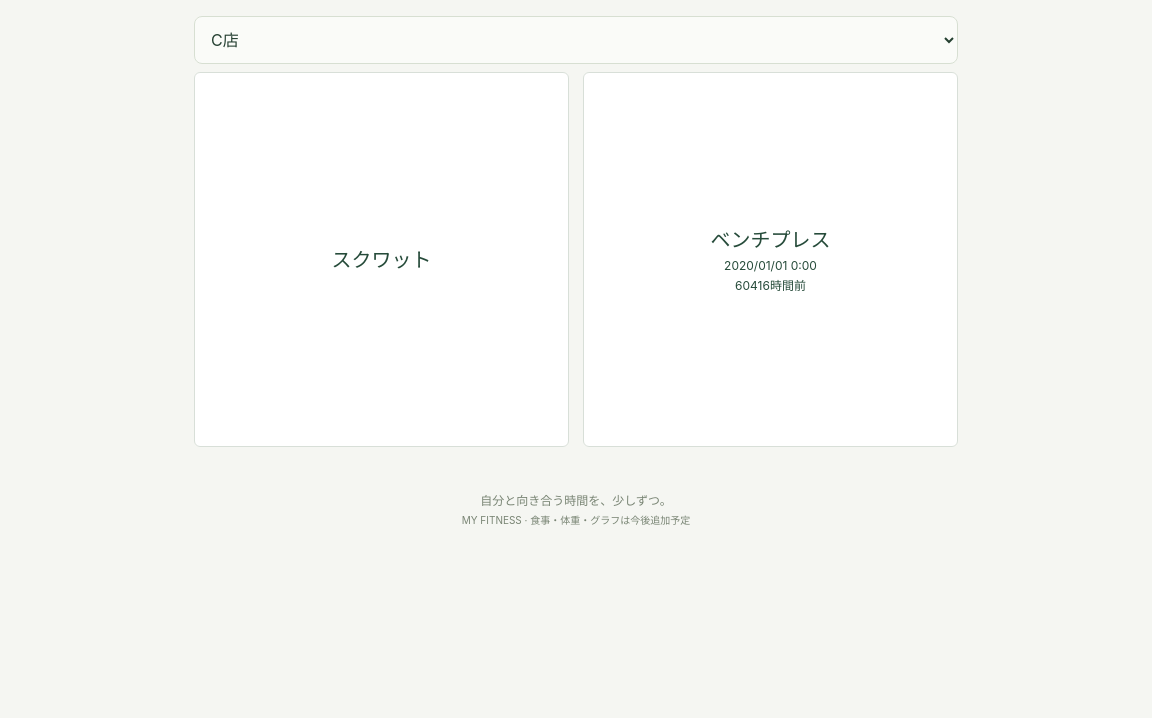
別店舗に同名種目を直接登録しても共通IDを使い、各店舗で重量を入力できる
This screenshot has width=1152, height=718.
Earlier steps of the test are not shown.
Later steps or results of the test are not shown.
Select "B店" in the dropdown named "店舗を選択": (576, 40) [194,16,958,64]
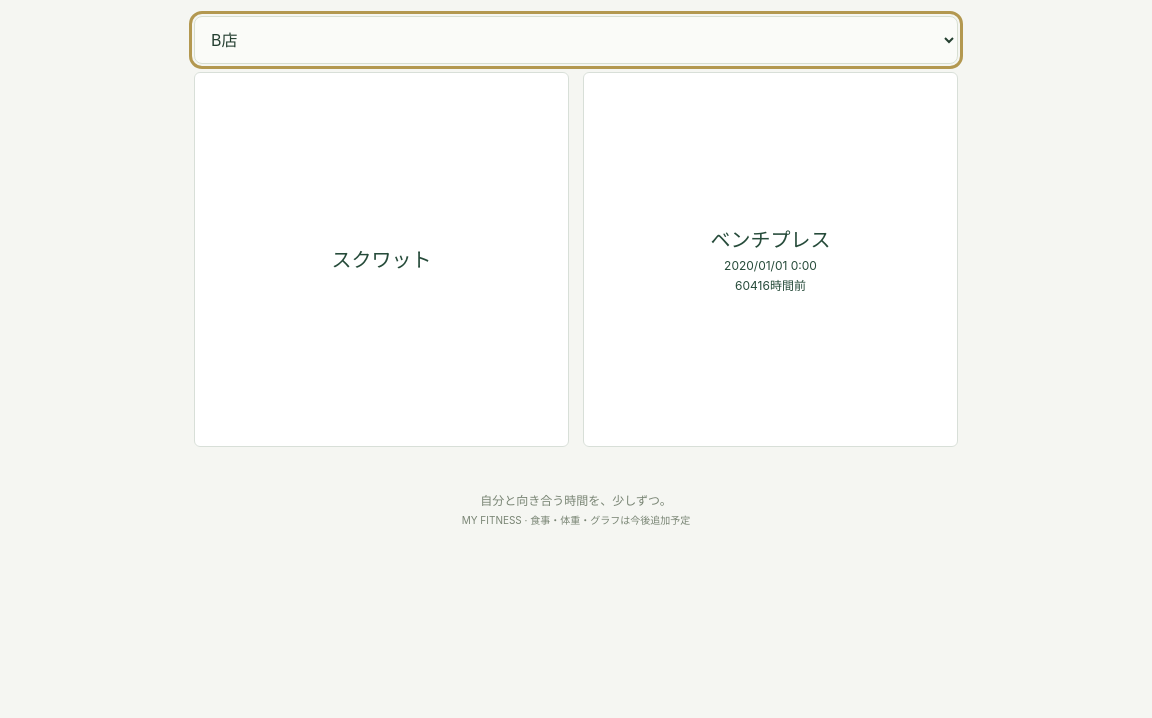
Click the button "スクワット": (382, 260) [194,72,569,447]
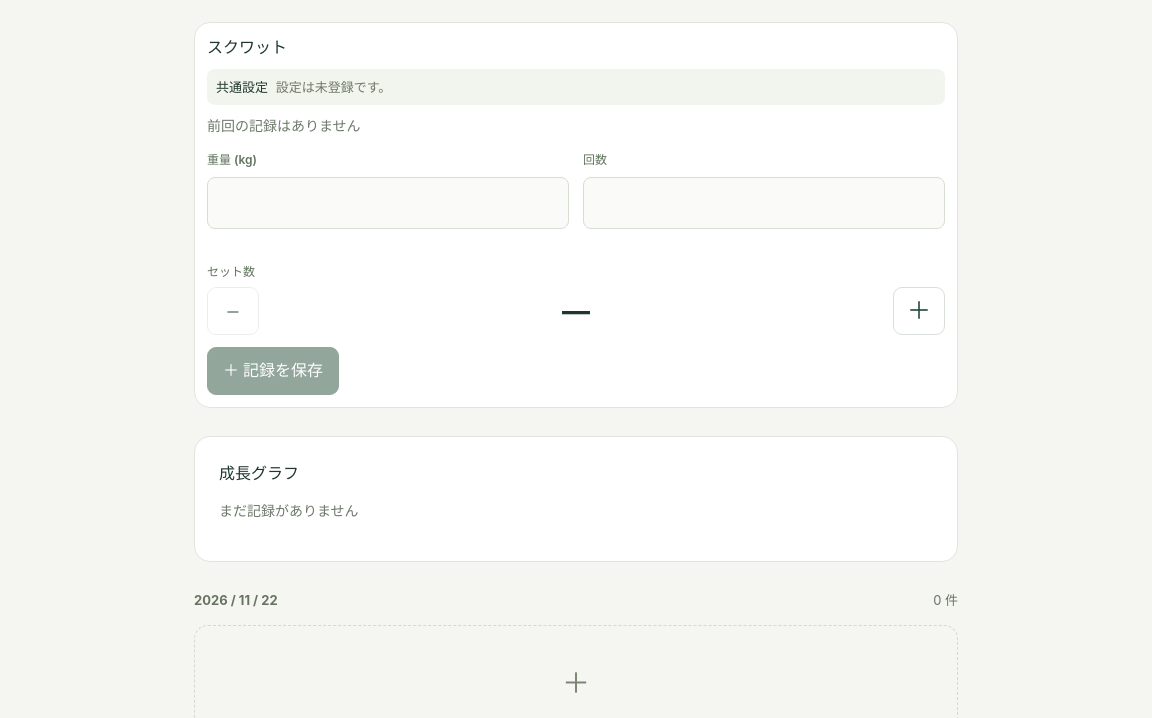
Check: the number field labelled "重量 (kg)" is shown, box [207,177,569,229]
